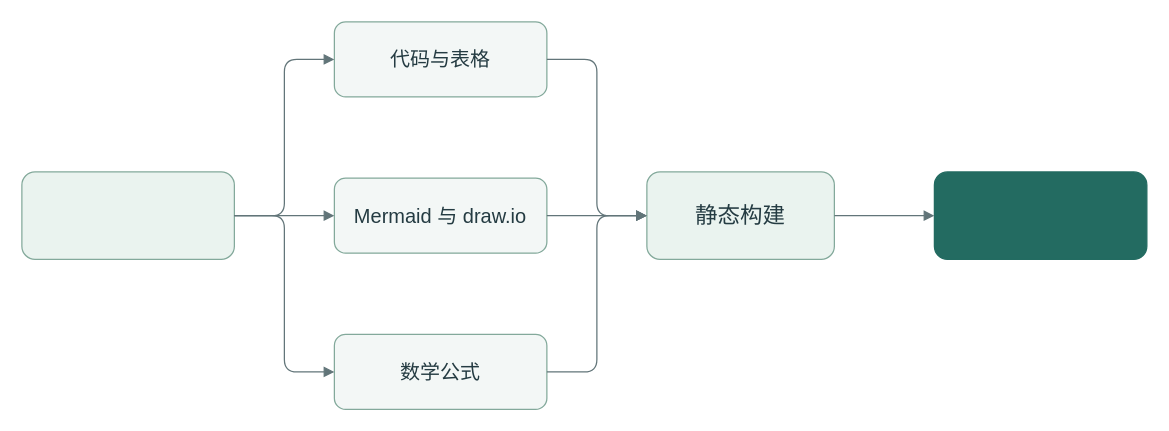
The diagram is 1169 pixels wide and 431 high, and some of its shapes have lost their labels. The centre of each missing label's shape, as x and y in pixels:
"Markdown 文章" belongs at (x=127, y=215).
"读者看到的博客" belongs at (x=1040, y=215).
